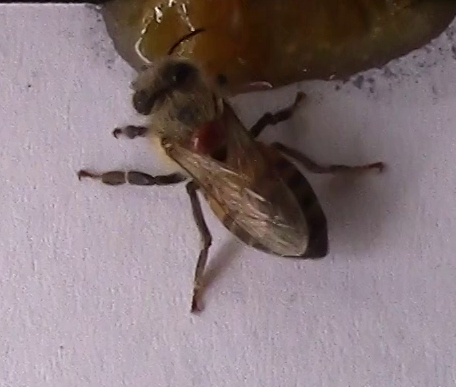Varroa destructor: (184, 117, 229, 157)
